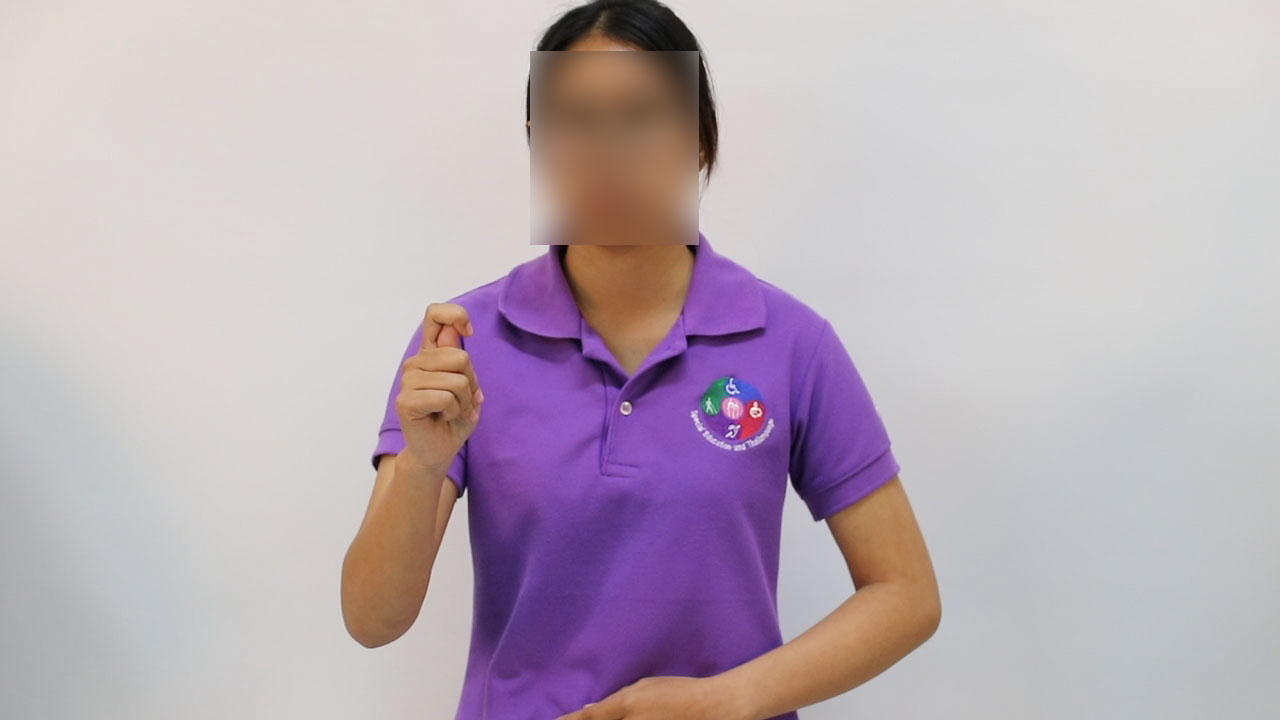or: (375, 292, 492, 477)
